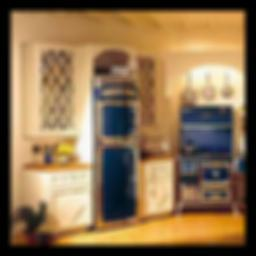Electrodomestico: (91, 78, 139, 224), (180, 107, 239, 218)
